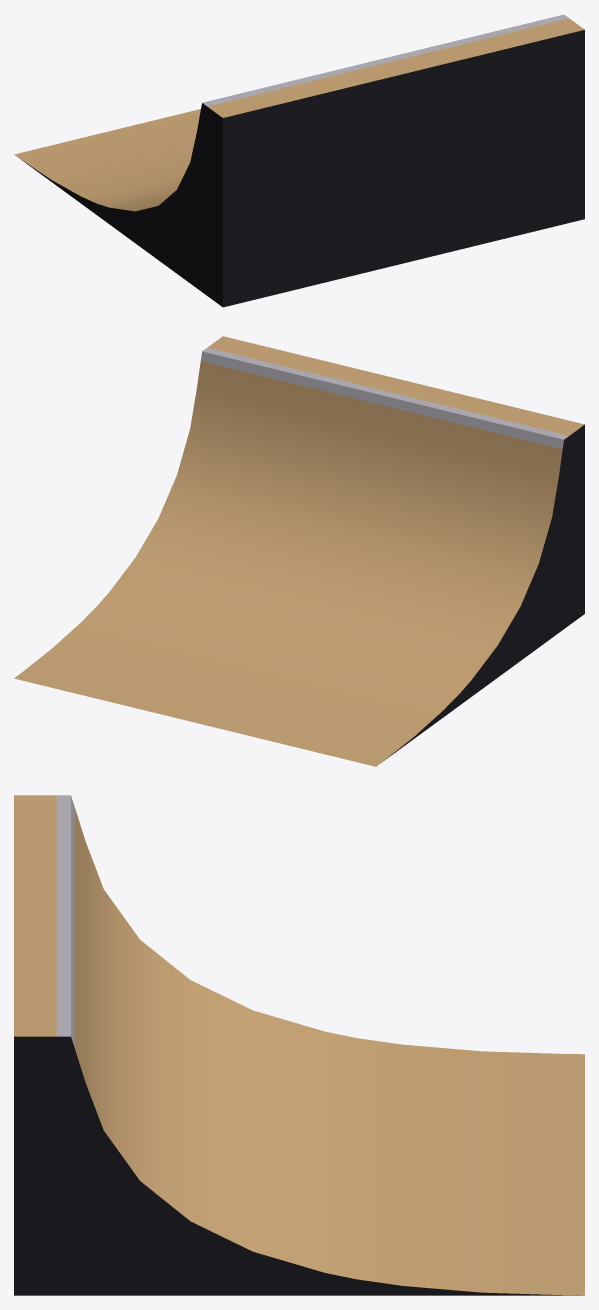
The model's file is Quater_SML_Straight.fbx.
3 renders of one model, top to bottom at view 1: azimuth 30°, elevation 25°; view 2: azimuth 150°, elevation 25°; view 3: azimuth 270°, elevation 25°, orthographic. The views are drawn at different scales.
Parts seen in each view (by area): view 1: Quater_SML_Straight; view 2: Quater_SML_Straight; view 3: Quater_SML_Straight.
Part boxes in pixels (<box>): Quater_SML_Straight: <box>14,14,584,307</box>; Quater_SML_Straight: <box>14,336,584,766</box>; Quater_SML_Straight: <box>14,795,584,1295</box>.
Size of the model in its own units: 10 by 5 by 10.
